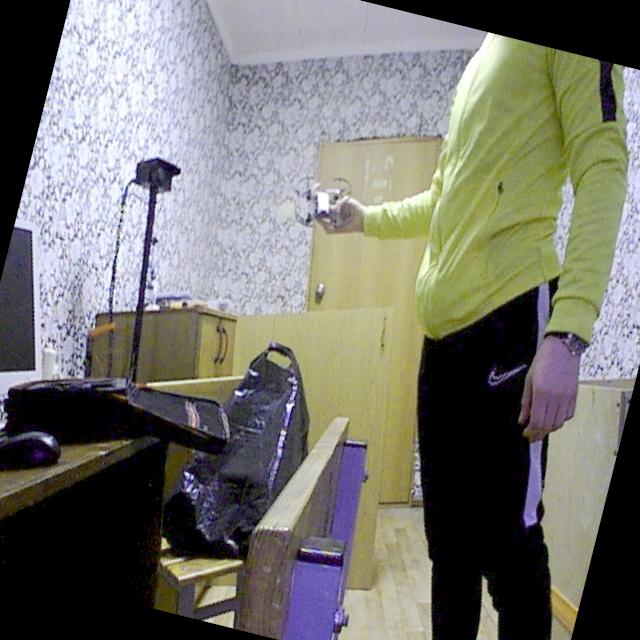drone: (284, 165, 368, 246)
